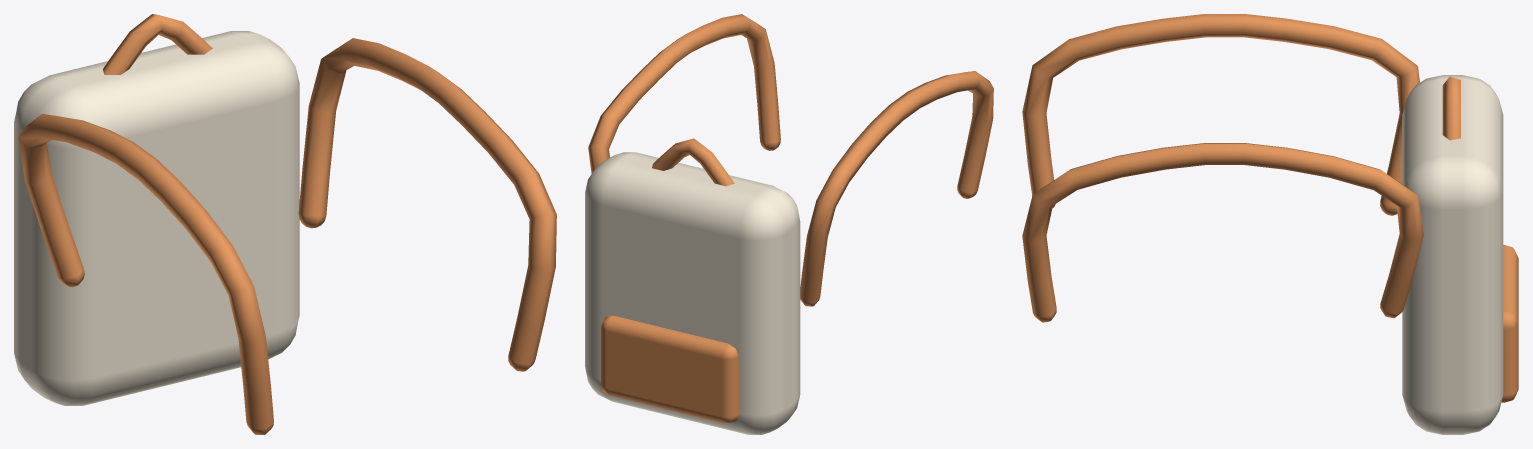
File: canvas_backpack.glb
3 views of the same model, side by side, from view 1: azimuth 30°, elevation 25°; view 2: azimuth 150°, elevation 25°; view 3: azimuth 270°, elevation 25° (orthographic). The views are drawn at different scales.
Visible parts, largest first — view 1: canvas_backpack_Body; view 2: canvas_backpack_Body; view 3: canvas_backpack_Body.
Part boxes in pixels (x1=…): canvas_backpack_Body: x1=14, y1=14, x2=556, y2=434; canvas_backpack_Body: x1=585, y1=14, x2=993, y2=434; canvas_backpack_Body: x1=1022, y1=14, x2=1518, y2=434.
Bounding box in the file's own units: 0.327 × 0.3445 × 0.4902.
